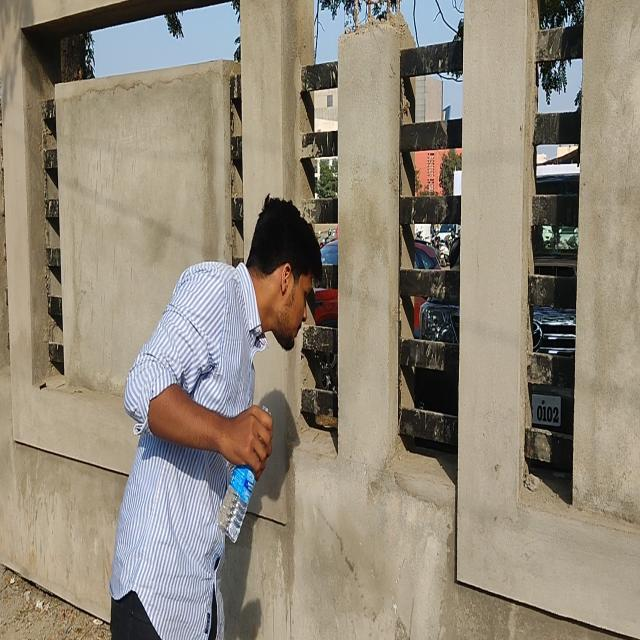spit: (252, 204, 398, 575)
